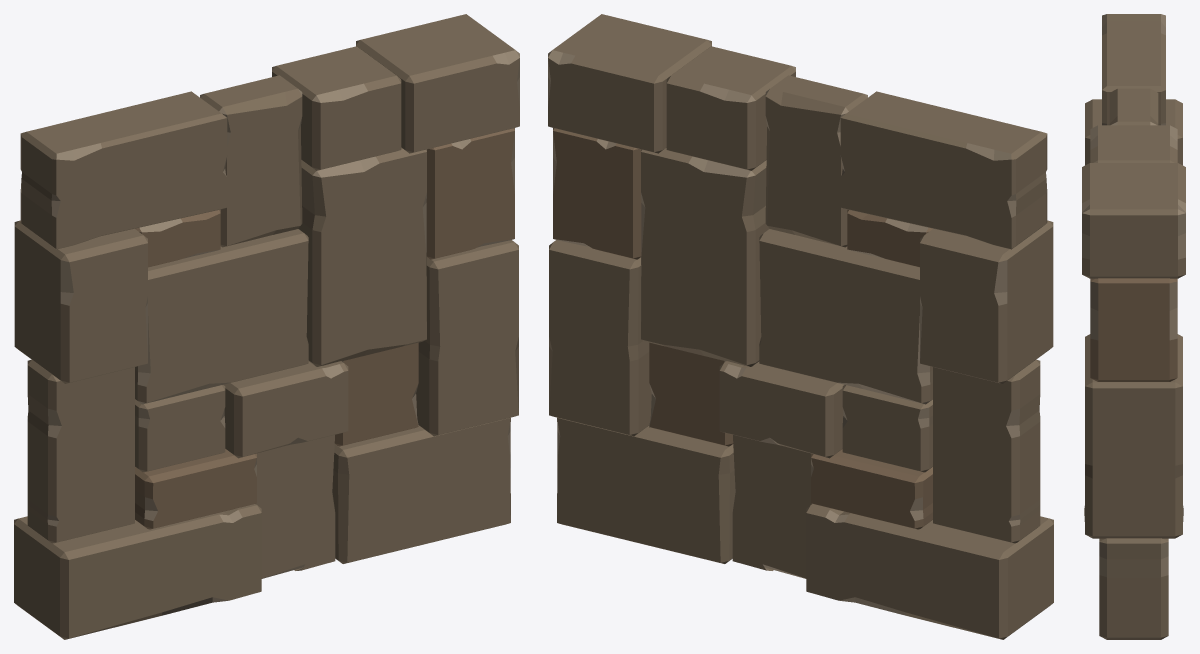
The model's file is Dungeon_Wall_Modular.glb.
The picture shows the model from 3 angles, left to right: view 1: azimuth 30°, elevation 25°; view 2: azimuth 150°, elevation 25°; view 3: azimuth 270°, elevation 25°; orthographic projection. The views are drawn at different scales.
Visible parts, largest first — view 1: Wall_Modular; view 2: Wall_Modular; view 3: Wall_Modular.
Boxes of the visible parts, x1,y1,x2,y2 form: Wall_Modular: [14, 14, 519, 639]; Wall_Modular: [548, 14, 1053, 639]; Wall_Modular: [1082, 14, 1185, 639].
Size of the model in its own units: 2 by 2.01 by 0.438.
